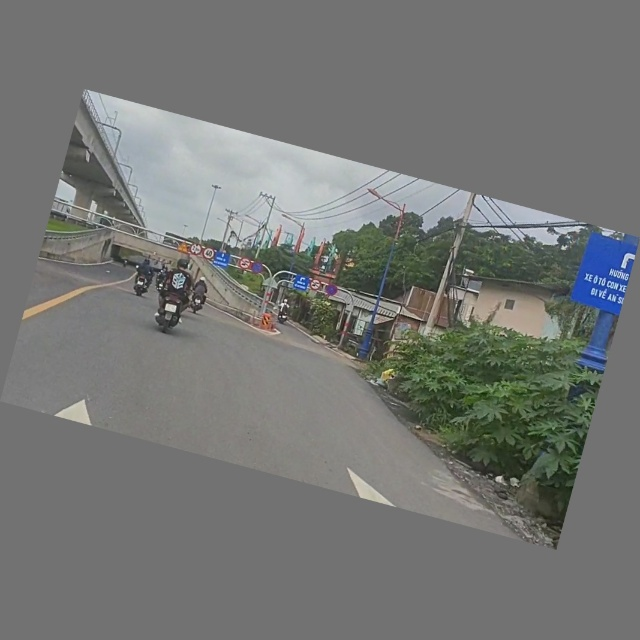P.107: (237, 257, 253, 273), (308, 278, 324, 293)
P.117*: (188, 242, 204, 257)
P.127*40: (201, 247, 217, 262)
P.130: (324, 283, 340, 299), (251, 262, 265, 276)
W.239b*: (176, 240, 191, 255)
